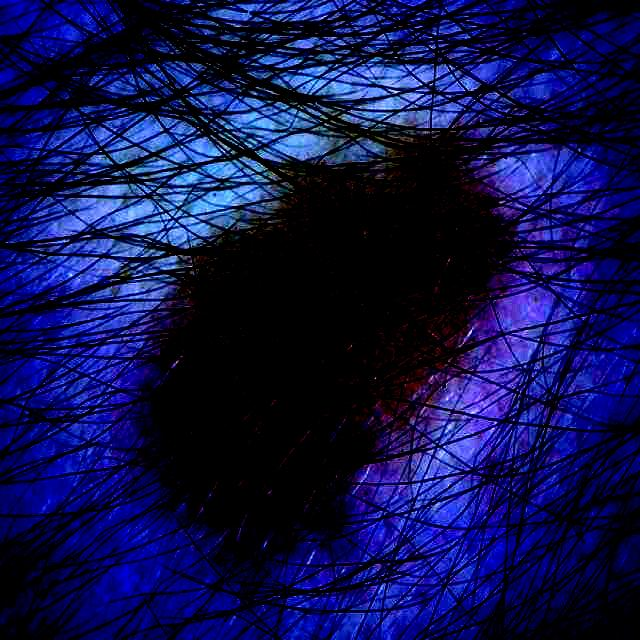NV: (160, 144, 507, 526)
